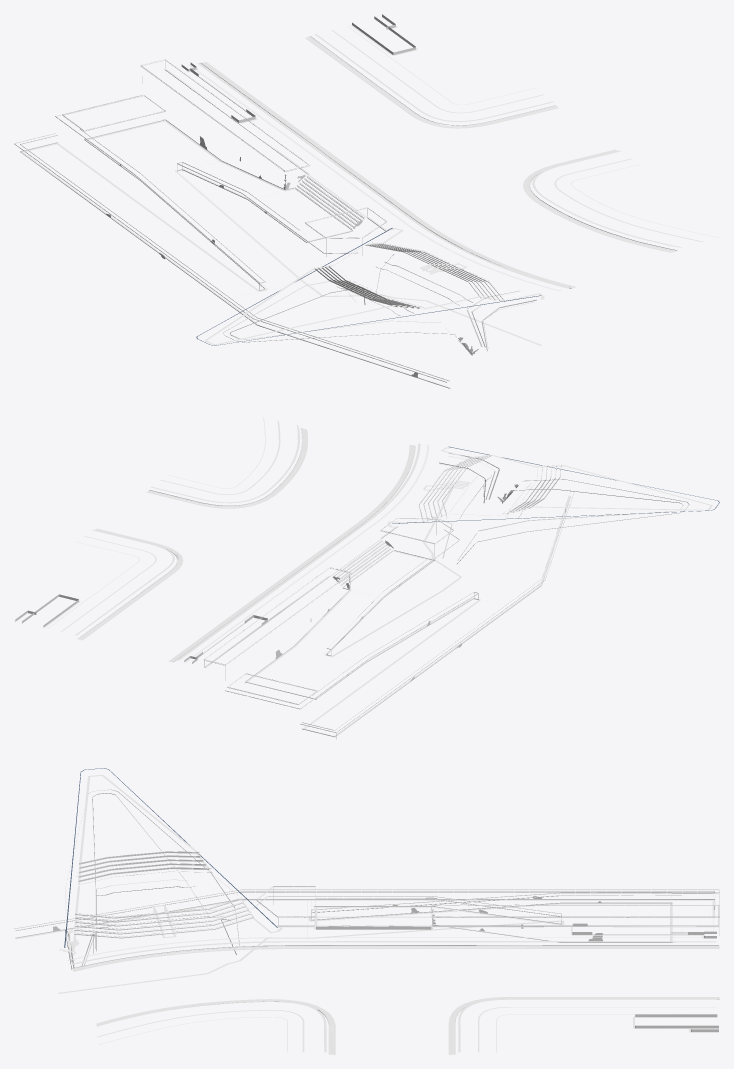
The picture shows the model from 3 angles, top to bottom: view 1: azimuth 30°, elevation 25°; view 2: azimuth 150°, elevation 25°; view 3: azimuth 270°, elevation 25°; orthographic projection. The views are drawn at different scales.
Visible parts, largest first — view 1: SM_I_RoadFacility_Ground_D_07_Decal; view 2: SM_I_RoadFacility_Ground_D_07_Decal; view 3: SM_I_RoadFacility_Ground_D_07_Decal.
Part boxes in pixels (box(x1,y1,x2,y2)): SM_I_RoadFacility_Ground_D_07_Decal: box(14, 14, 719, 388); SM_I_RoadFacility_Ground_D_07_Decal: box(14, 417, 719, 739); SM_I_RoadFacility_Ground_D_07_Decal: box(14, 768, 719, 1054).
Bounding box in the file's own units: 2183 × 1908 × 239.
